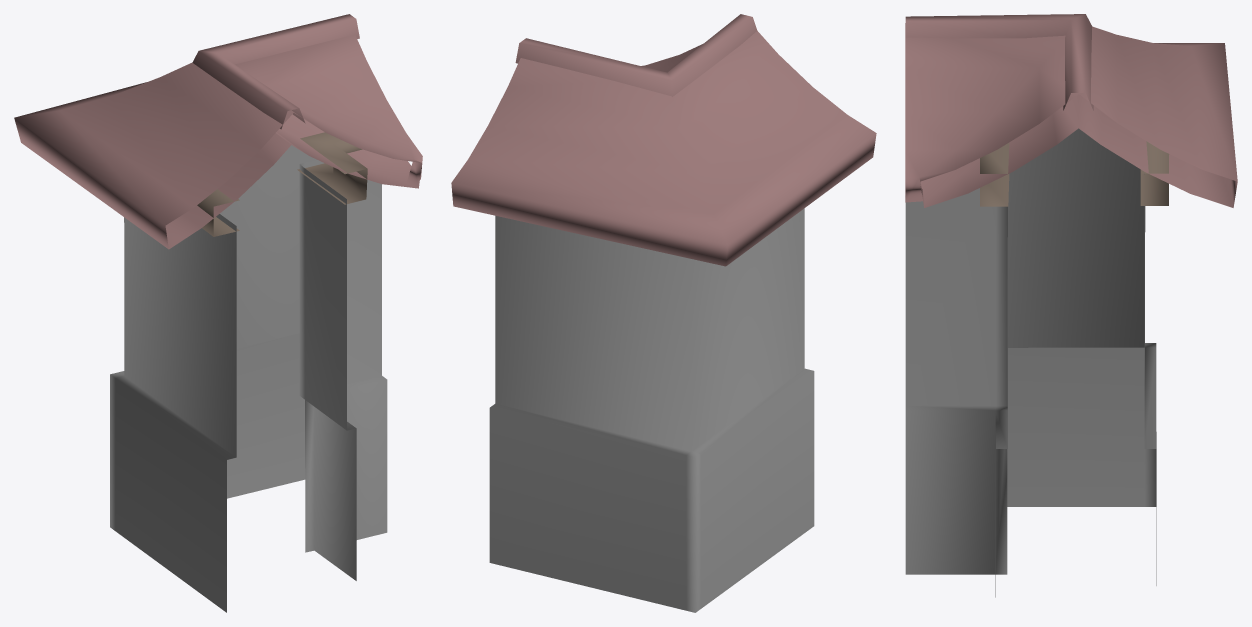
The model's file is building_wall_corner.fbx.
3 renders of one model, left to right at view 1: azimuth 30°, elevation 25°; view 2: azimuth 150°, elevation 25°; view 3: azimuth 270°, elevation 25°, orthographic. The views are drawn at different scales.
Parts seen in each view (by area): view 1: polySurface43, polySurface42, pCube132; view 2: polySurface43, polySurface42, pCube132; view 3: polySurface43, polySurface42, pCube132.
Boxes of the visible parts, <box> form: polySurface43: <box>110,132,387,612</box>; polySurface42: <box>14,34,422,249</box>; pCube132: <box>192,14,359,129</box>; polySurface43: <box>489,208,814,612</box>; polySurface42: <box>451,31,876,266</box>; pCube132: <box>515,14,757,96</box>; polySurface43: <box>905,128,1168,597</box>; polySurface42: <box>905,23,1237,207</box>; pCube132: <box>905,14,1093,110</box>.
Bounding box in the file's own units: 196 × 337 × 195.
